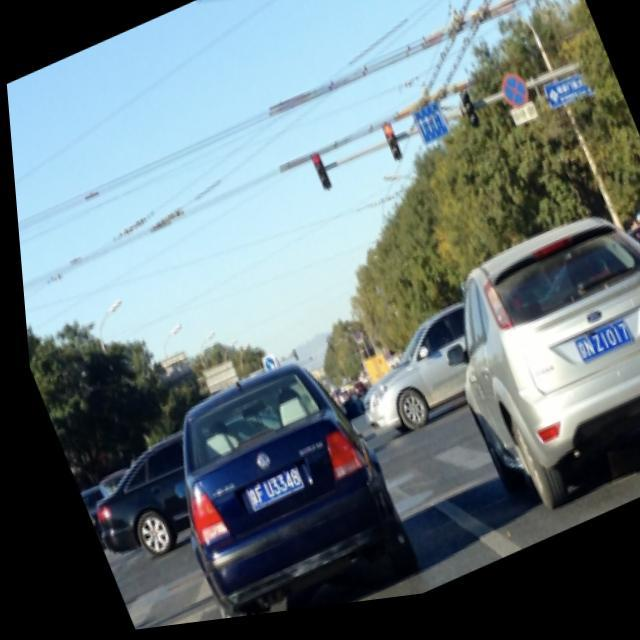license_plate: (230, 468, 296, 517), (563, 330, 623, 374)
